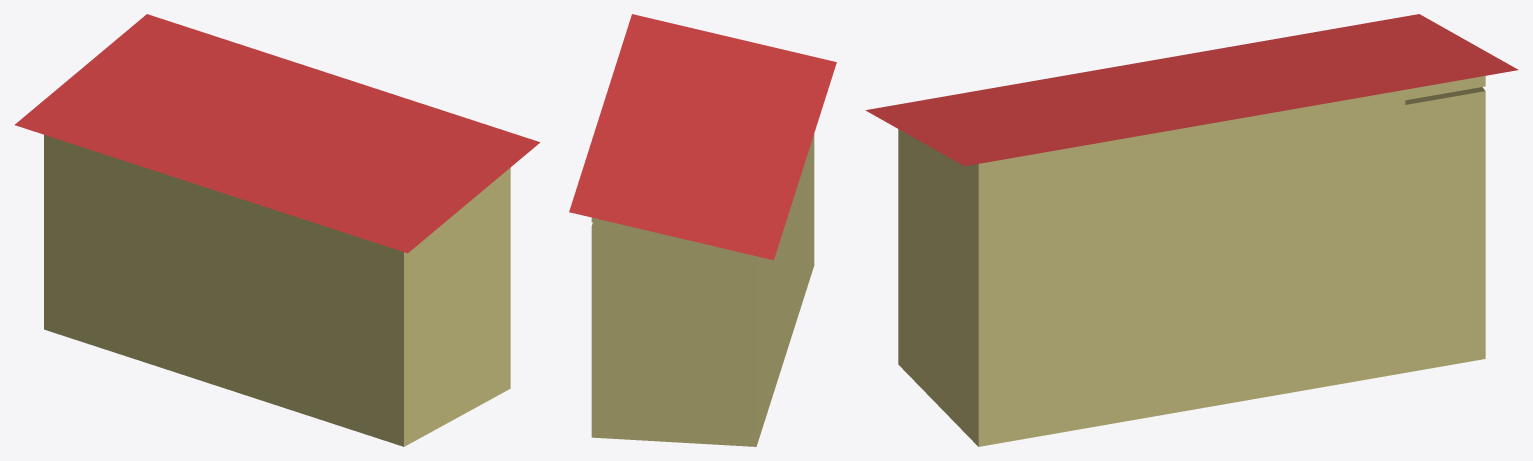
3 views of the same model, side by side, from view 1: azimuth 30°, elevation 25°; view 2: azimuth 150°, elevation 25°; view 3: azimuth 270°, elevation 25° (orthographic). The views are drawn at different scales.
Bounding box in the file's own units: 9.17 × 12.75 × 6.35.
